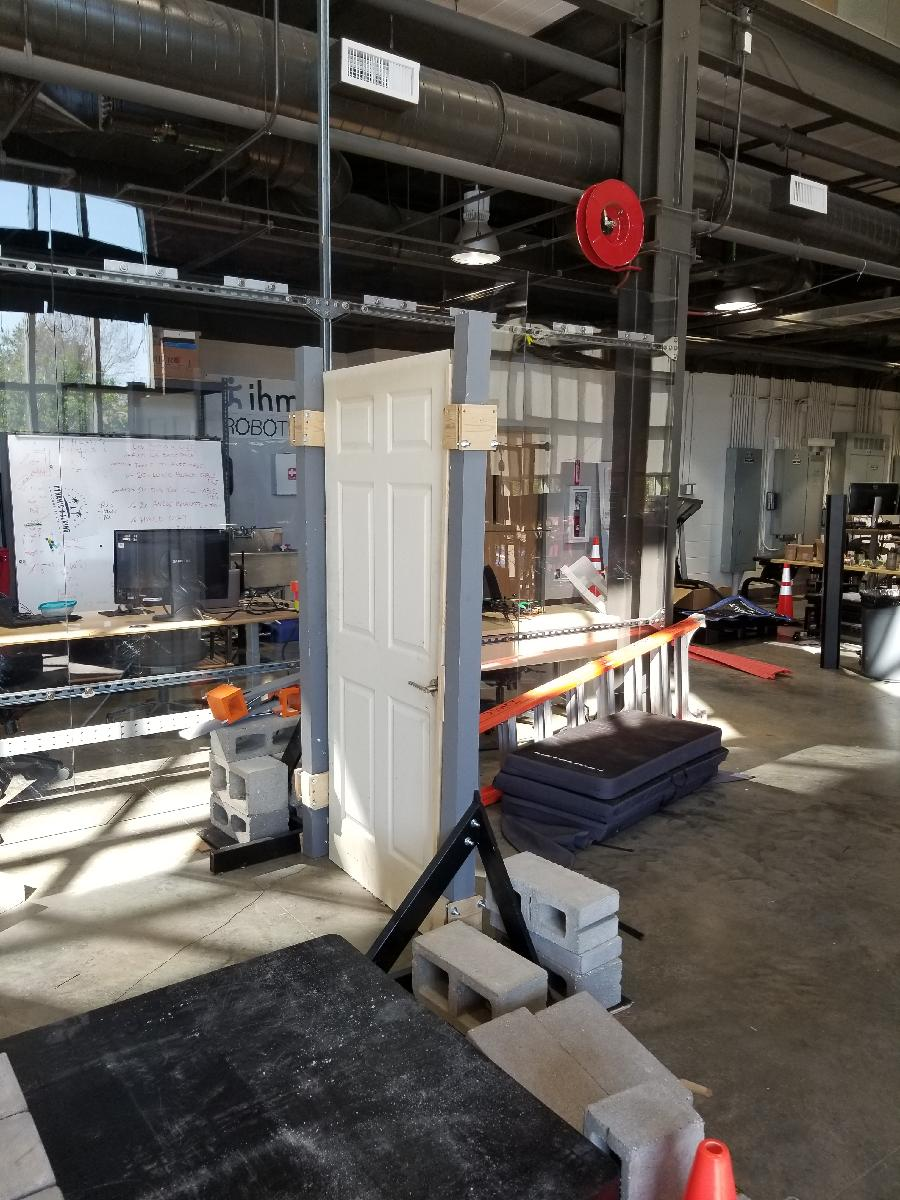door: (320, 344, 457, 946)
doorHandle: (404, 666, 449, 703)
